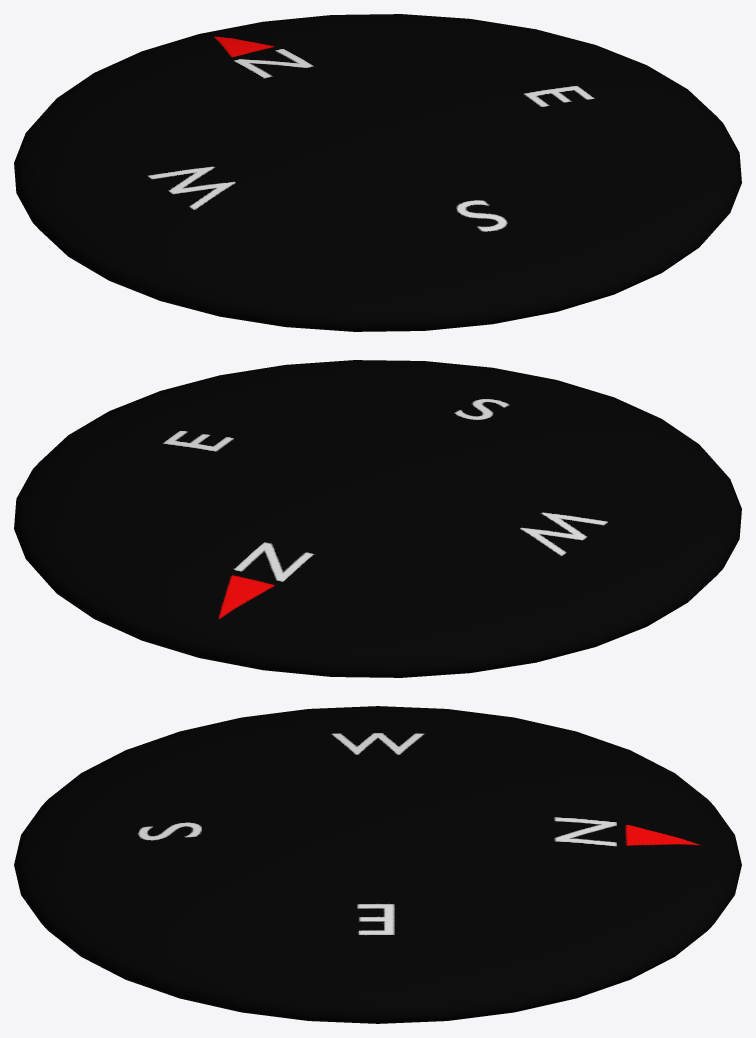
The model's file is Compass.dae.
3 views of the same model, one above another, from view 1: azimuth 30°, elevation 25°; view 2: azimuth 150°, elevation 25°; view 3: azimuth 270°, elevation 25° (orthographic).
Visible parts, largest first — view 1: Compass; view 2: Compass; view 3: Compass.
Part boxes in pixels (x1,y1,x2,y2): Compass: (14, 14, 741, 331); Compass: (14, 360, 741, 677); Compass: (14, 706, 741, 1023).
Size of the model in its own units: 2 by 2 by 0.25.
1 material, 1 textured.
